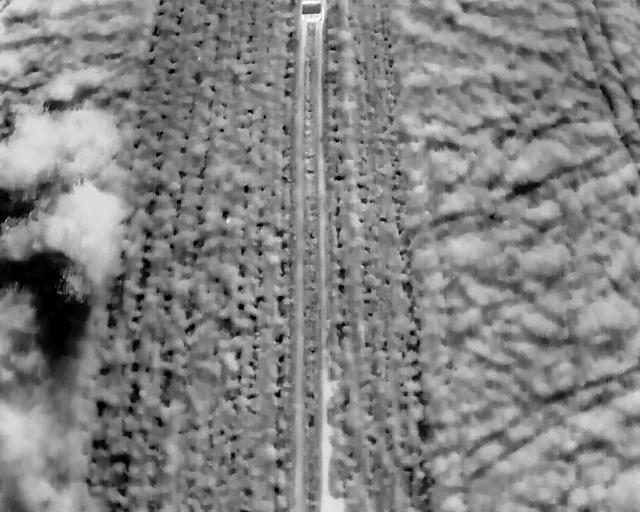car: (299, 0, 324, 21)
